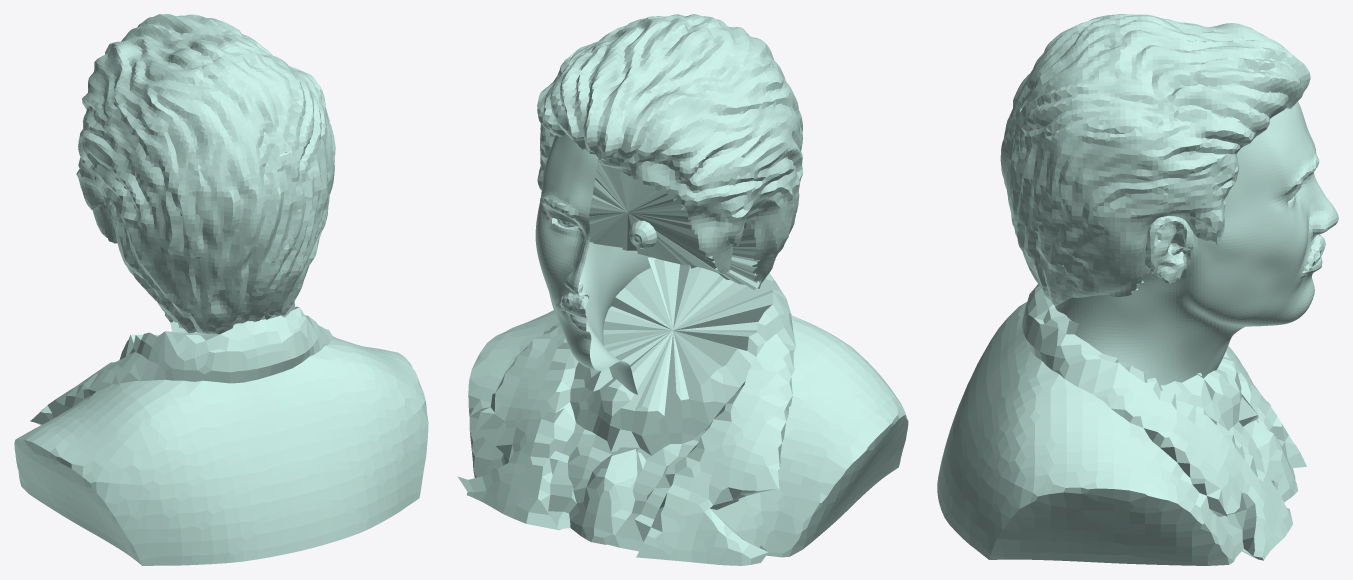
3 renders of one model, left to right at view 1: azimuth 30°, elevation 25°; view 2: azimuth 150°, elevation 25°; view 3: azimuth 270°, elevation 25°, orthographic. The views are drawn at different scales.
Parts seen in each view (by area): view 1: Mirzhakip; view 2: Mirzhakip; view 3: Mirzhakip.
Part boxes in pixels (x1,y1,x2,y2): Mirzhakip: (14,14,428,565); Mirzhakip: (457,14,908,565); Mirzhakip: (937,14,1338,565).
Size of the model in its own units: 3.05 by 3.47 by 2.7.
